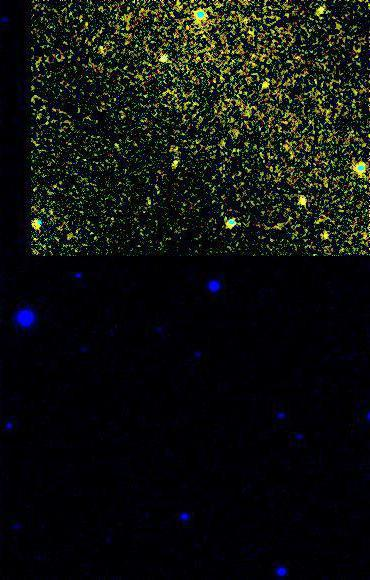star: (251, 70, 281, 100)
